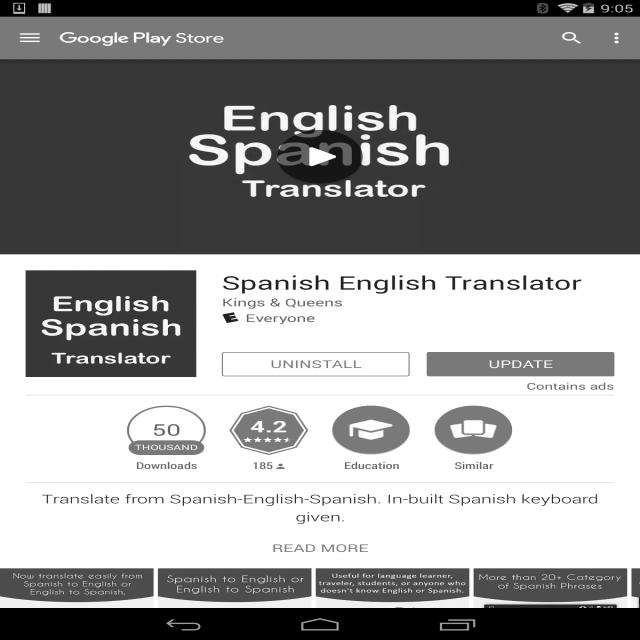Button: (222, 406, 316, 472), (324, 406, 418, 472), (426, 406, 520, 472), (222, 352, 409, 376), (427, 352, 614, 376)
ImageButton: (0, 17, 60, 59)
ImageView: (0, 59, 640, 254), (26, 270, 196, 377), (0, 568, 154, 640), (158, 568, 311, 640), (316, 568, 469, 640), (474, 568, 627, 640), (264, 121, 376, 192), (332, 406, 411, 455), (434, 406, 513, 455), (60, 30, 224, 46), (597, 22, 640, 54), (631, 568, 640, 640), (222, 312, 239, 323), (276, 464, 285, 469)
TextView: (0, 490, 640, 537), (0, 537, 640, 555), (222, 270, 614, 295), (222, 295, 343, 309), (546, 22, 597, 54), (324, 455, 418, 472), (426, 455, 520, 472), (120, 455, 213, 472), (526, 380, 614, 392), (245, 311, 316, 325), (250, 415, 288, 437), (133, 443, 200, 452), (152, 420, 181, 440), (252, 455, 273, 472)
